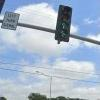traffic lights: (54, 4, 73, 43)
